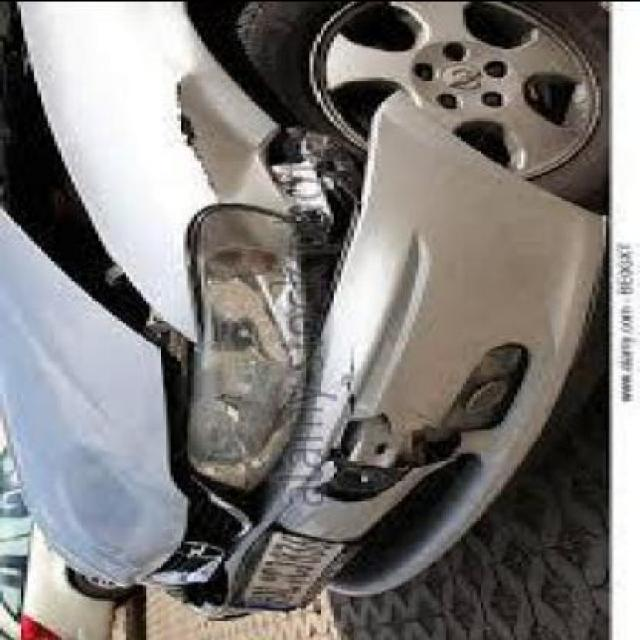damage: (6, 6, 540, 624)
